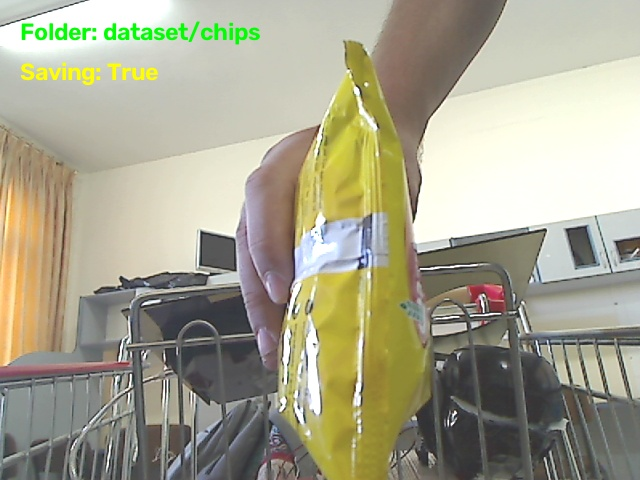chips: (278, 42, 430, 479)
